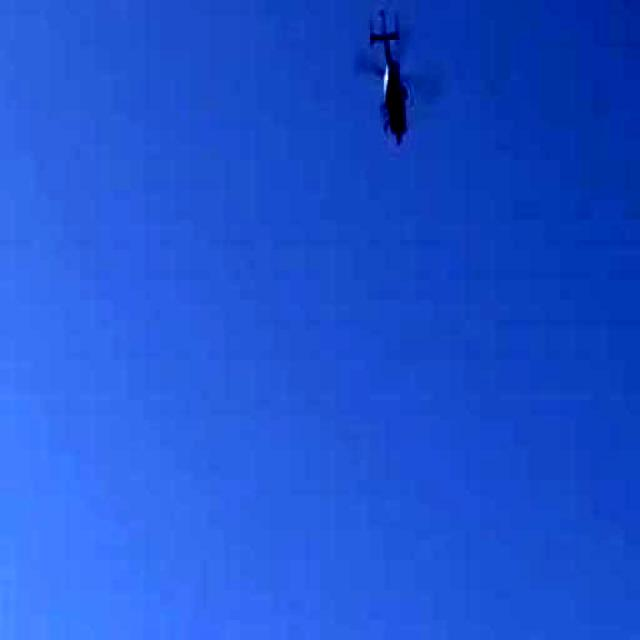drone: (339, 0, 449, 160)
